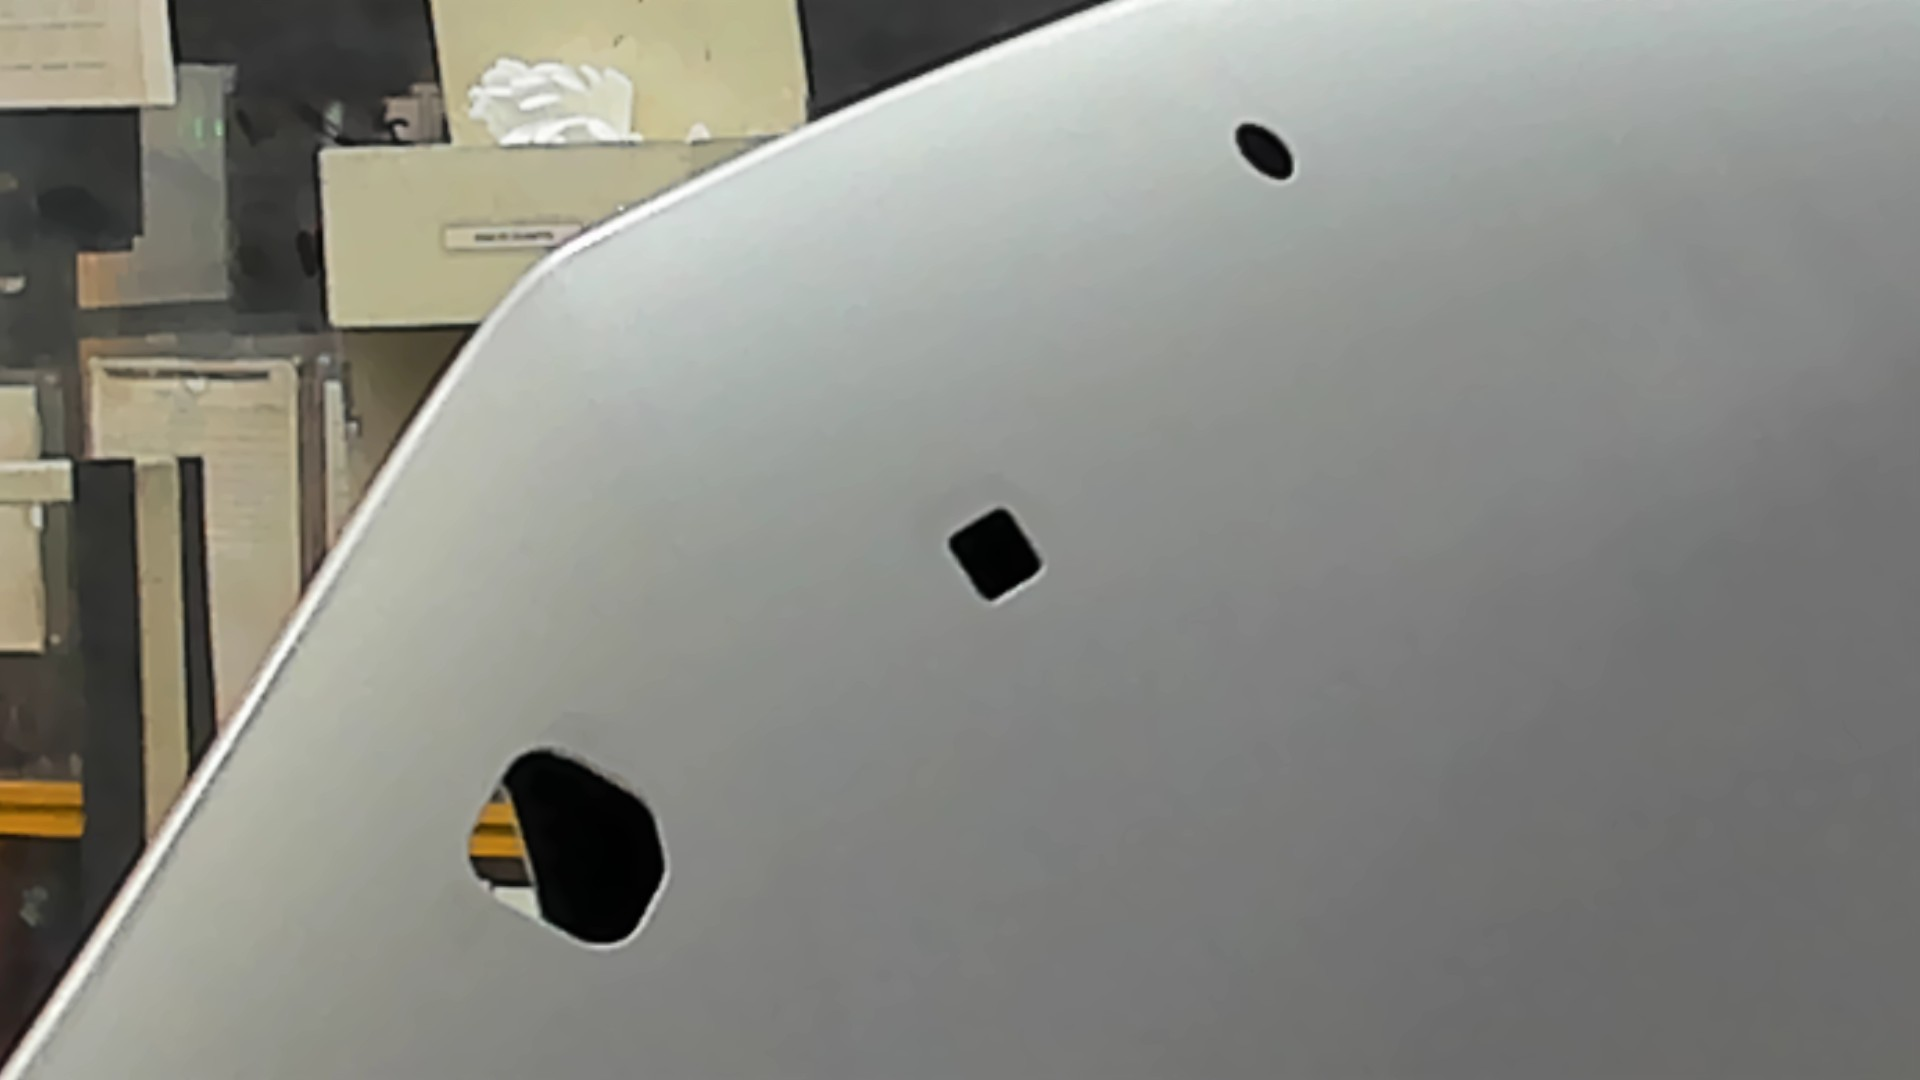Agujero: (947, 504, 1044, 605), (1234, 121, 1296, 181)
Agujerote: (464, 745, 673, 952)
